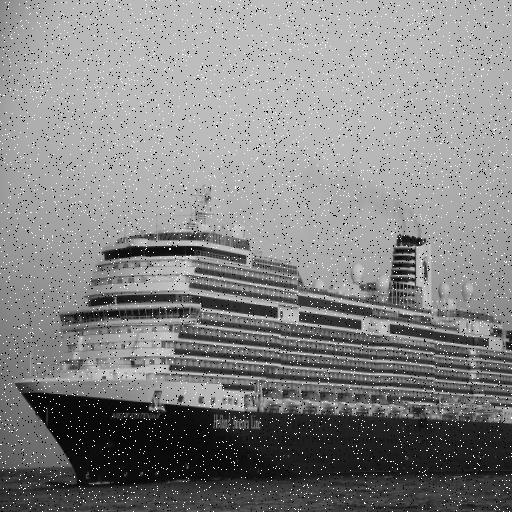cruises: (16, 183, 512, 482)
